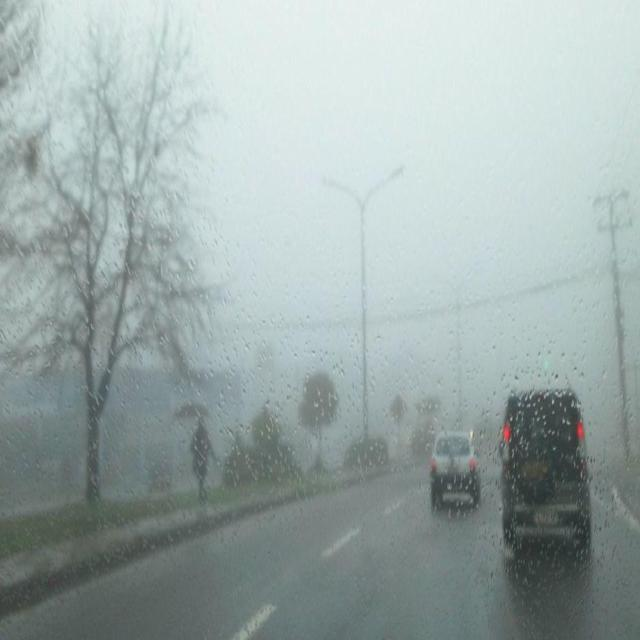Car: (423, 427, 484, 528)
Van: (501, 381, 592, 563)
